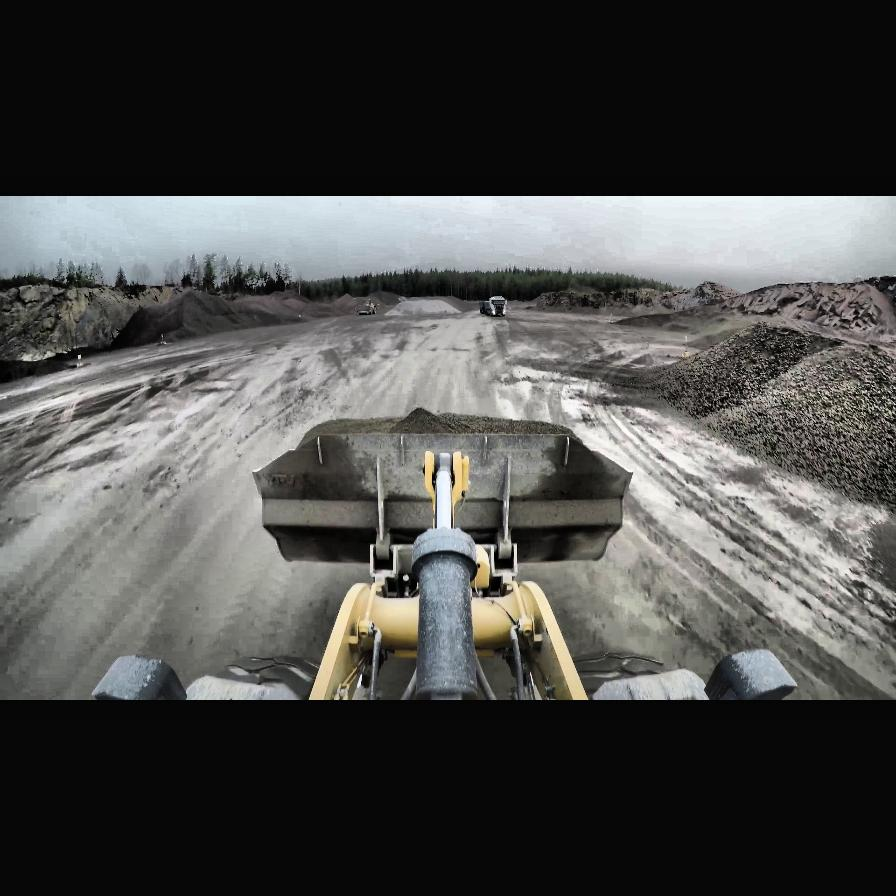anchor: (424, 450, 468, 526)
pile of gravel: (616, 319, 894, 505), (0, 280, 168, 368), (107, 286, 311, 350), (714, 276, 896, 344), (610, 310, 742, 340), (2, 350, 90, 386), (384, 298, 463, 316), (360, 290, 406, 306), (330, 292, 362, 314)
